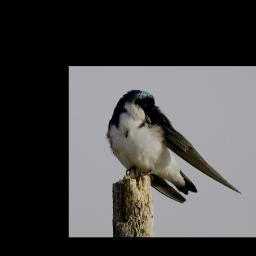Swallow: (105, 88, 242, 204)
